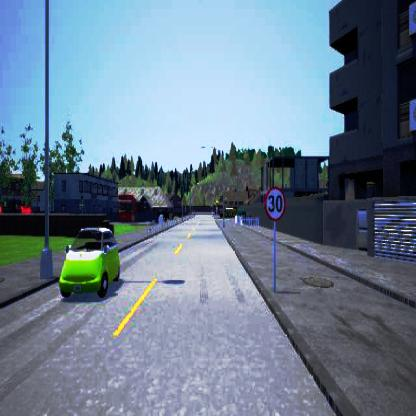vehicle: (58, 226, 119, 297)
